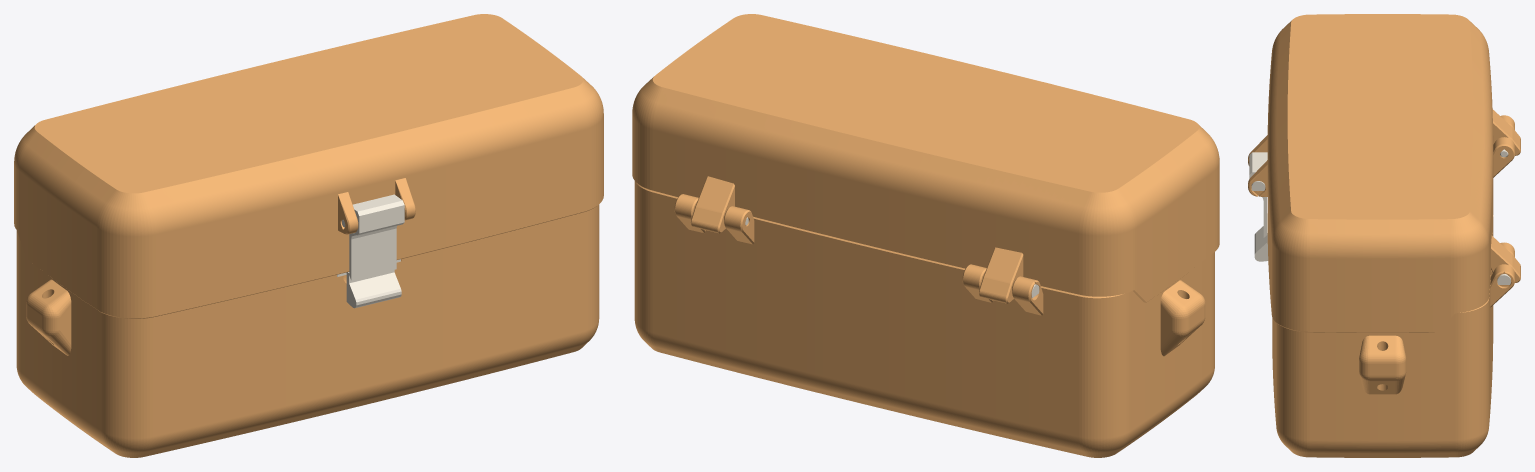
File: deckel_neu.glb
3 renders of one model, left to right at view 1: azimuth 30°, elevation 25°; view 2: azimuth 150°, elevation 25°; view 3: azimuth 270°, elevation 25°, orthographic. The views are drawn at different scales.
Visible parts, largest first — view 1: deckel, basis, lasche; view 2: deckel, basis; view 3: deckel, basis, lasche.
Boxes of the visible parts, x1,y1,x2,y2 form: deckel: (14, 14, 603, 318); basis: (16, 204, 599, 457); lasche: (342, 194, 404, 308); deckel: (632, 14, 1219, 303); basis: (634, 181, 1214, 457); deckel: (1248, 14, 1520, 332); basis: (1272, 115, 1514, 457); lasche: (1249, 152, 1268, 261).
Bounding box in the file's own units: 264 × 122 × 127.
